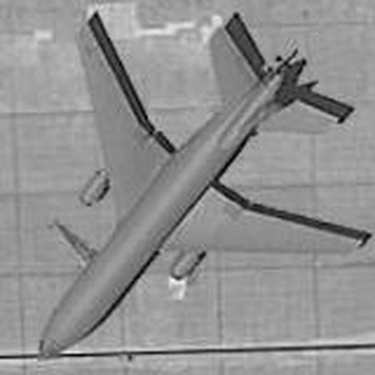airplane: (5, 5, 373, 357)
